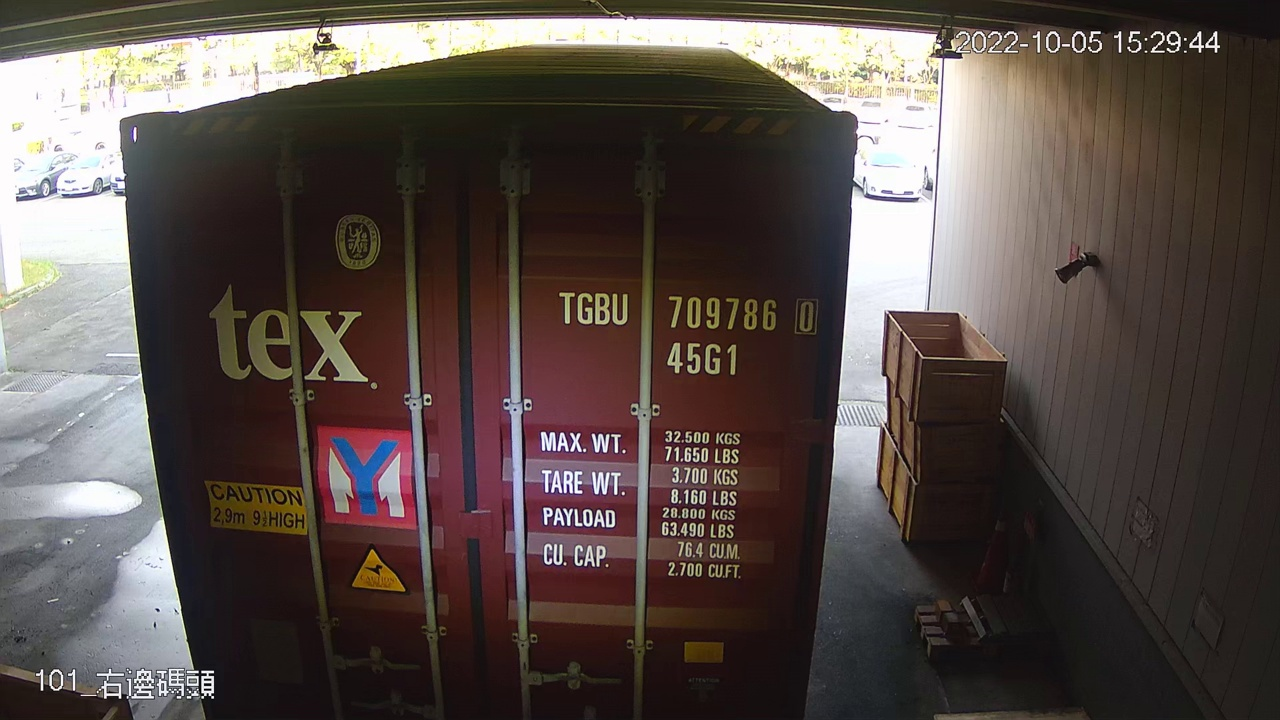container: (548, 283, 824, 381)
